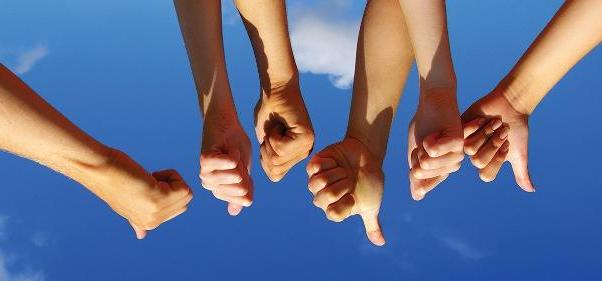thumbsdown: (306, 137, 391, 247), (462, 102, 539, 195)
